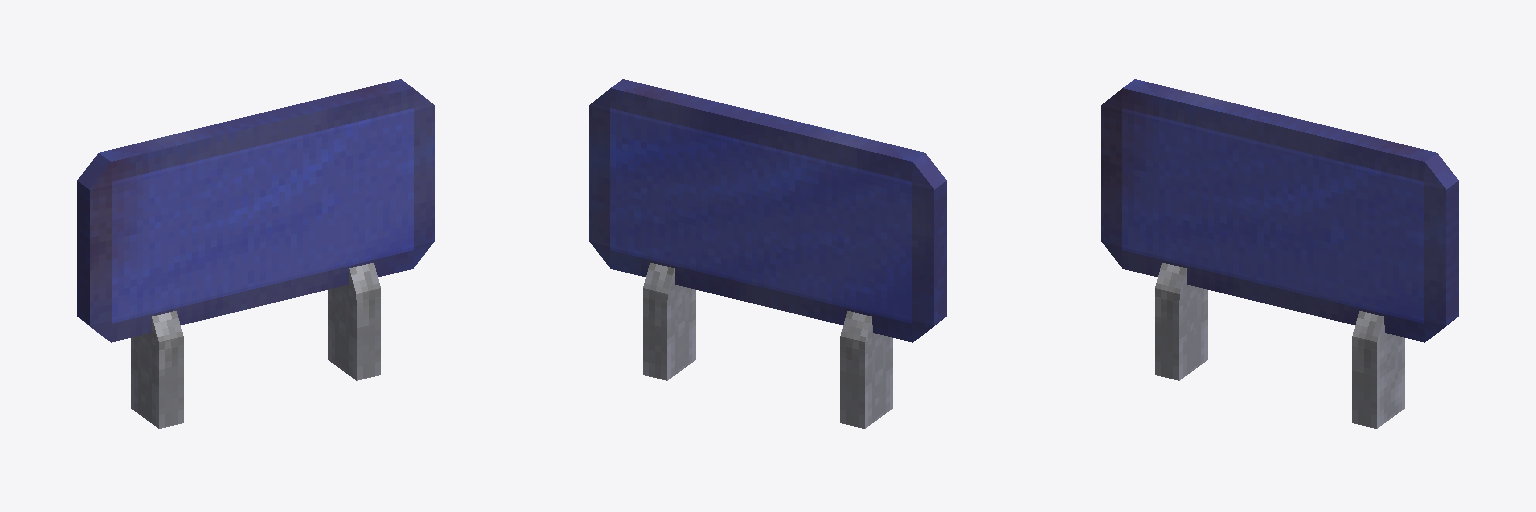
3 renders of one model, left to right at view 1: azimuth 30°, elevation 25°; view 2: azimuth 150°, elevation 25°; view 3: azimuth 330°, elevation 25°, orthographic.
Parts seen in each view (by area): view 1: beveled_cuboid, cuboid; view 2: beveled_cuboid, cuboid; view 3: beveled_cuboid, cuboid.
Part boxes in pixels (left/top/right/bottom): beveled_cuboid: left=77, top=79, right=434, bottom=342; cuboid: left=131, top=263, right=380, bottom=428; beveled_cuboid: left=589, top=79, right=946, bottom=342; cuboid: left=643, top=263, right=892, bottom=428; beveled_cuboid: left=1101, top=79, right=1458, bottom=342; cuboid: left=1155, top=263, right=1404, bottom=428.
Bounding box in the file's own units: 1.75 × 1.31 × 0.25.
1 materials, 1 textured.